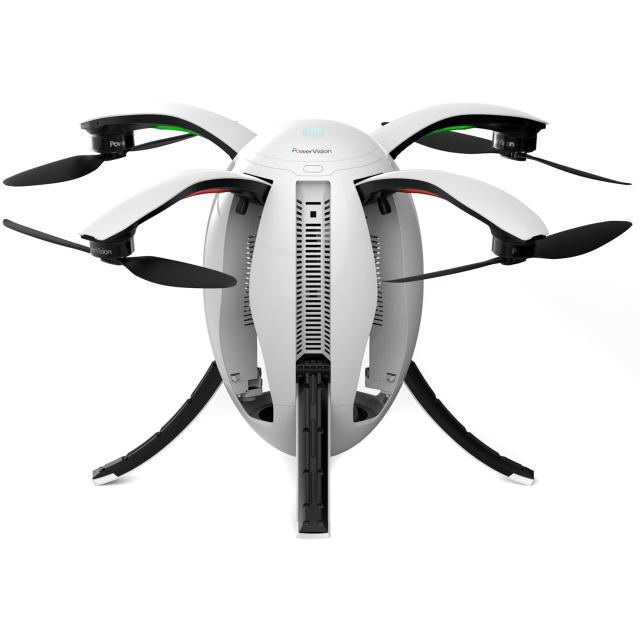drone: (10, 94, 640, 295)
